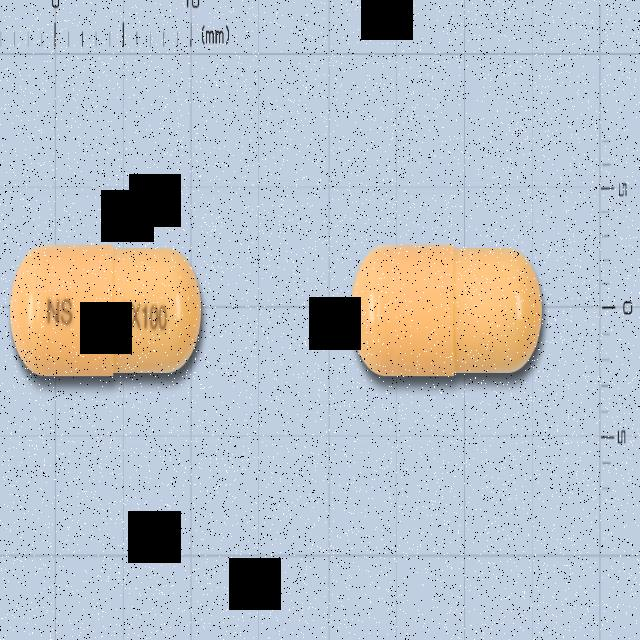Cefixime Cap- Nelson: (9, 238, 208, 388)
